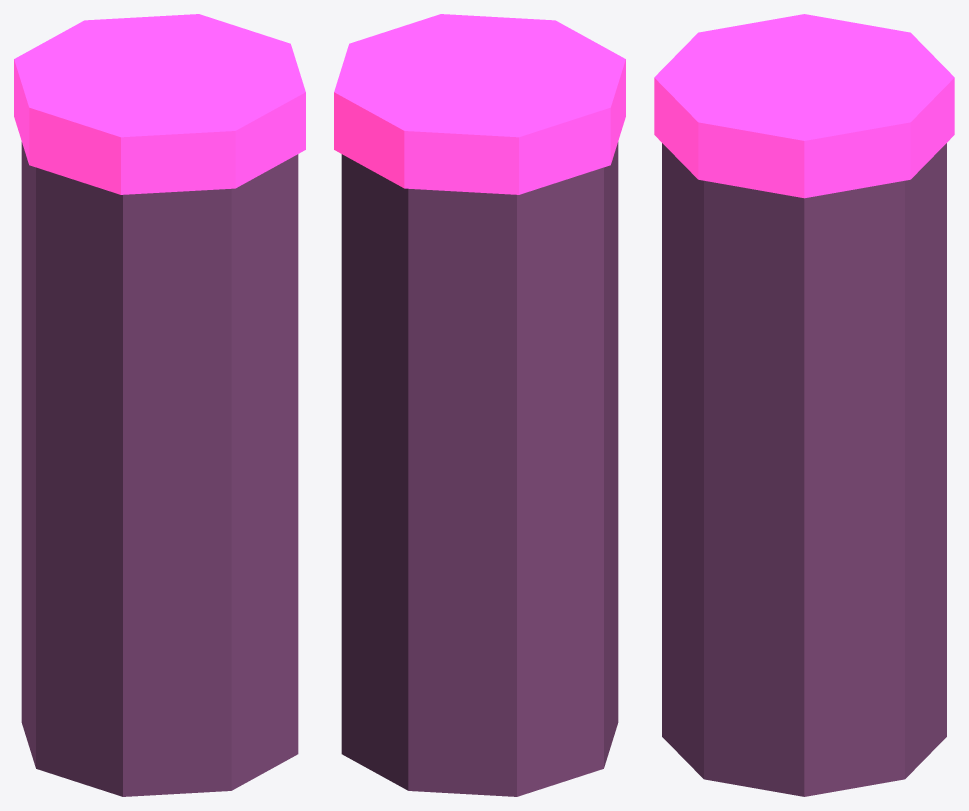
Rendered from street_032_seed11.glb.
3 renders of one model, left to right at view 1: azimuth 30°, elevation 25°; view 2: azimuth 150°, elevation 25°; view 3: azimuth 270°, elevation 25°, orthographic.
Visible parts, largest first — view 1: street_032_seed11; view 2: street_032_seed11; view 3: street_032_seed11.
Boxes of the visible parts, x1,y1,x2,y2 form: street_032_seed11: (14,14,305,796); street_032_seed11: (334,14,625,796); street_032_seed11: (654,14,954,796).
Bounding box in the file's own units: 0.38 × 0.92 × 0.38.
